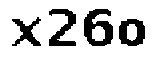2: (46, 6, 77, 48)
6: (81, 7, 115, 51)
o: (119, 16, 148, 47)
x: (10, 17, 43, 48)
